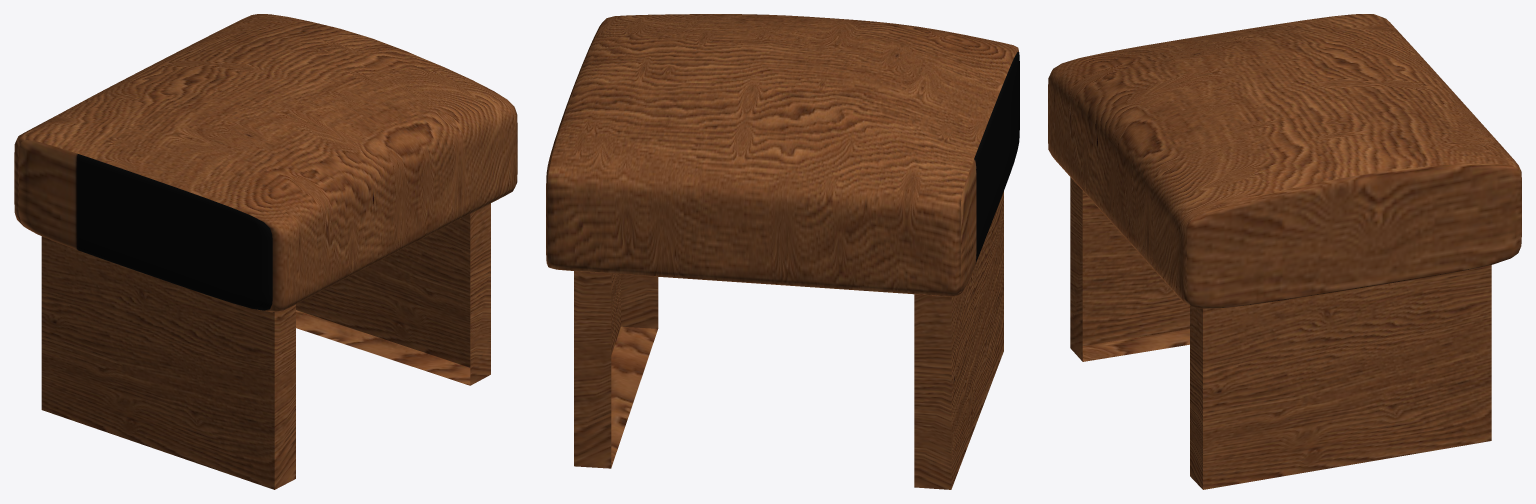
The model's file is modelChair.fbx.
The picture shows the model from 3 angles, left to right: view 1: azimuth 30°, elevation 25°; view 2: azimuth 150°, elevation 25°; view 3: azimuth 270°, elevation 25°; orthographic projection. The views are drawn at different scales.
Parts seen in each view (by area): view 1: defaultMaterial.004; view 2: defaultMaterial.004; view 3: defaultMaterial.004.
Boxes of the visible parts, left/top/right/bottom form: defaultMaterial.004: left=14, top=14, right=517, bottom=489; defaultMaterial.004: left=546, top=14, right=1019, bottom=489; defaultMaterial.004: left=1048, top=14, right=1521, bottom=489.
Bounding box in the file's own units: 86.89 × 62.63 × 84.47.
Materials: 2 (2 with a texture image).
